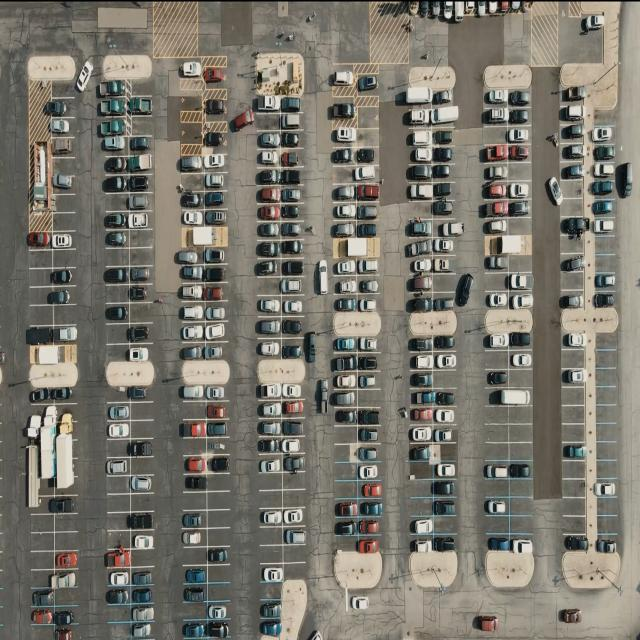space-empty: (486, 424, 532, 443), (488, 407, 533, 426), (504, 368, 534, 387), (483, 350, 511, 370), (28, 305, 54, 326), (506, 423, 534, 442), (106, 323, 131, 344), (561, 459, 587, 479), (256, 276, 282, 296), (560, 478, 586, 498), (129, 229, 155, 249), (255, 112, 282, 131), (560, 178, 584, 199), (106, 528, 130, 549), (105, 283, 130, 303), (560, 349, 585, 369), (560, 234, 585, 254), (410, 460, 435, 480), (559, 198, 584, 218), (509, 496, 534, 516), (29, 286, 54, 306), (130, 402, 155, 422), (484, 479, 510, 498), (408, 496, 434, 515), (356, 106, 379, 127), (130, 117, 154, 137), (207, 563, 231, 583), (54, 306, 78, 326), (260, 545, 284, 565), (562, 386, 586, 406), (593, 236, 617, 256), (335, 425, 359, 445), (207, 490, 231, 510), (208, 510, 232, 530), (281, 488, 305, 508), (562, 496, 586, 516), (482, 127, 507, 146), (105, 493, 130, 512), (510, 479, 535, 498), (178, 173, 203, 192), (130, 492, 155, 511), (105, 476, 130, 495), (561, 406, 586, 425), (106, 603, 131, 622), (182, 547, 207, 566), (182, 491, 207, 510), (180, 400, 205, 419), (129, 456, 154, 475), (484, 442, 509, 461), (433, 274, 458, 293), (207, 583, 232, 602), (485, 423, 510, 442), (129, 248, 155, 266), (485, 516, 511, 534), (509, 162, 532, 182), (357, 388, 380, 408), (53, 211, 76, 231), (31, 568, 54, 588), (595, 349, 618, 369), (128, 304, 151, 324), (334, 461, 357, 481), (105, 439, 129, 458), (260, 526, 284, 545), (560, 271, 584, 290), (104, 248, 128, 267), (282, 545, 306, 564), (508, 217, 532, 236), (509, 255, 533, 274), (484, 273, 508, 292), (409, 479, 433, 498), (131, 419, 155, 438), (355, 129, 379, 148), (510, 443, 534, 462), (55, 531, 79, 550), (55, 515, 79, 534), (52, 79, 76, 98), (130, 78, 154, 97), (208, 528, 232, 547), (54, 588, 79, 606), (28, 250, 53, 268), (104, 192, 129, 210), (332, 166, 357, 184), (407, 202, 432, 220), (562, 516, 587, 534), (180, 124, 202, 144), (596, 404, 618, 424), (596, 385, 618, 405), (596, 442, 618, 462), (436, 443, 458, 463), (53, 193, 76, 212), (54, 249, 77, 268), (31, 515, 54, 534), (261, 489, 284, 508), (595, 367, 618, 386), (283, 561, 306, 580), (595, 496, 618, 515), (182, 439, 206, 457), (434, 516, 458, 534), (30, 532, 54, 550), (562, 424, 586, 442), (28, 269, 52, 287), (131, 550, 155, 568), (52, 159, 76, 177), (260, 472, 284, 490), (106, 513, 130, 531), (31, 552, 55, 570), (510, 516, 534, 534), (179, 94, 203, 112), (595, 333, 619, 351), (206, 473, 230, 491), (182, 601, 206, 619), (596, 459, 618, 478), (596, 423, 618, 442), (596, 515, 618, 534), (435, 371, 457, 390), (281, 471, 304, 489), (595, 256, 618, 274), (334, 481, 357, 499), (262, 584, 284, 602), (336, 534, 358, 552), (334, 444, 356, 462), (105, 385, 128, 402), (592, 108, 615, 125), (109, 623, 132, 640), (106, 345, 128, 362), (31, 626, 54, 640)
space-occupied: (488, 386, 532, 407), (97, 116, 129, 136), (100, 134, 129, 156), (98, 97, 128, 118), (203, 94, 228, 118), (588, 178, 616, 199), (406, 106, 434, 127), (257, 294, 283, 316), (407, 181, 434, 202), (48, 97, 75, 118), (100, 78, 128, 98), (406, 238, 434, 258), (333, 98, 357, 121), (257, 316, 283, 337), (433, 105, 459, 126), (590, 215, 616, 236), (434, 217, 461, 237), (559, 103, 586, 123), (281, 296, 305, 318), (333, 125, 357, 147), (334, 65, 356, 89), (482, 105, 507, 126), (50, 137, 75, 158), (484, 458, 509, 479), (48, 118, 74, 138), (560, 331, 586, 351), (102, 156, 128, 176), (407, 217, 433, 237), (560, 216, 586, 236), (482, 180, 508, 200), (559, 124, 585, 144), (408, 292, 434, 312), (560, 142, 586, 162), (332, 388, 358, 408), (257, 338, 283, 358), (482, 216, 508, 236), (182, 620, 208, 640), (408, 423, 434, 443), (407, 128, 433, 148), (486, 369, 512, 389), (590, 199, 617, 218), (410, 387, 437, 406), (486, 533, 513, 552), (180, 58, 203, 80), (262, 562, 286, 583), (509, 271, 533, 292), (129, 322, 153, 343), (560, 288, 584, 309), (129, 474, 154, 494), (105, 230, 130, 250), (509, 349, 534, 369), (129, 266, 154, 286), (104, 266, 129, 286), (560, 368, 585, 388), (180, 418, 205, 438), (484, 495, 509, 515), (183, 527, 208, 547), (354, 164, 379, 184), (179, 303, 204, 323), (333, 371, 358, 391), (334, 275, 359, 295), (409, 274, 434, 294), (104, 210, 130, 229), (590, 126, 616, 145), (180, 511, 206, 530), (482, 163, 508, 182), (179, 383, 205, 402), (408, 407, 434, 426), (408, 257, 434, 276), (563, 533, 589, 552), (28, 325, 54, 344), (406, 89, 433, 107), (282, 316, 304, 338), (356, 73, 378, 95), (282, 338, 304, 360), (205, 320, 228, 341), (106, 303, 129, 324), (203, 66, 226, 87), (183, 564, 207, 584), (129, 155, 153, 175), (562, 442, 586, 462), (105, 419, 129, 439), (204, 152, 228, 172), (105, 400, 129, 420), (261, 508, 285, 528), (105, 456, 129, 476), (178, 153, 202, 173), (130, 439, 154, 459), (259, 454, 283, 474), (333, 202, 357, 222), (183, 474, 207, 494), (484, 288, 508, 308), (432, 291, 456, 311), (204, 129, 228, 149), (180, 321, 204, 341), (131, 512, 155, 532), (409, 443, 434, 462), (179, 190, 204, 209), (104, 174, 129, 193), (483, 144, 508, 163), (28, 231, 53, 250), (332, 146, 357, 165), (255, 259, 280, 278), (333, 183, 358, 202), (409, 516, 434, 535), (178, 282, 203, 301), (202, 246, 227, 265), (591, 162, 616, 181), (354, 443, 379, 462), (357, 481, 382, 500), (410, 369, 435, 388), (410, 352, 435, 371), (28, 383, 53, 402), (253, 95, 279, 113), (508, 290, 534, 308), (483, 333, 509, 351), (590, 144, 616, 162), (482, 201, 508, 219), (355, 462, 381, 480), (508, 533, 534, 551), (130, 95, 152, 116), (207, 546, 230, 566), (509, 180, 532, 200), (55, 568, 78, 588), (335, 497, 358, 517), (356, 424, 379, 444), (355, 202, 378, 222), (205, 302, 228, 322), (280, 148, 303, 168), (434, 350, 457, 370), (356, 275, 379, 295), (261, 620, 284, 640), (510, 460, 534, 479), (129, 210, 153, 229), (52, 174, 76, 193), (55, 324, 79, 343), (560, 255, 584, 274), (106, 550, 130, 569), (509, 332, 533, 351), (256, 220, 280, 239), (408, 164, 432, 183), (280, 453, 304, 472), (484, 89, 508, 108), (257, 240, 281, 259), (204, 282, 228, 301), (281, 220, 305, 239), (53, 495, 77, 514), (433, 256, 457, 275), (206, 455, 230, 474), (561, 162, 585, 181), (183, 584, 207, 603), (355, 182, 379, 201), (358, 498, 382, 517), (334, 408, 358, 427), (334, 293, 358, 312), (594, 480, 618, 499), (54, 605, 78, 624), (434, 479, 458, 498), (334, 353, 358, 372), (258, 184, 282, 203), (259, 418, 283, 437), (128, 344, 152, 363), (593, 289, 617, 308), (259, 399, 283, 418), (204, 265, 228, 284), (258, 438, 283, 456), (561, 87, 587, 104), (54, 230, 76, 250), (282, 508, 304, 528), (434, 407, 456, 427), (207, 600, 229, 620), (132, 566, 154, 586), (205, 171, 228, 190), (509, 143, 532, 162), (56, 551, 79, 570), (509, 106, 532, 125), (280, 96, 303, 115), (281, 259, 304, 278), (281, 276, 304, 295), (182, 456, 205, 475), (256, 148, 279, 167), (282, 526, 305, 545), (281, 240, 304, 259), (206, 402, 229, 421), (281, 436, 304, 455), (508, 126, 532, 144), (484, 254, 508, 272), (335, 336, 359, 354), (130, 174, 154, 192), (258, 131, 282, 149), (357, 518, 381, 536), (107, 587, 131, 605), (433, 237, 457, 255), (594, 273, 618, 291), (178, 266, 202, 284), (180, 209, 204, 227), (107, 568, 131, 586), (433, 534, 457, 552), (356, 535, 380, 553), (202, 342, 226, 360), (354, 258, 378, 276), (410, 534, 434, 552), (206, 438, 230, 456), (130, 136, 152, 155), (54, 268, 76, 287), (432, 181, 454, 200), (206, 418, 228, 437), (32, 608, 54, 627), (54, 285, 76, 304), (434, 128, 456, 147), (356, 352, 378, 371), (595, 534, 617, 553), (262, 600, 284, 619), (208, 621, 230, 640), (54, 383, 76, 402), (132, 531, 155, 549), (130, 192, 153, 210), (509, 200, 532, 218), (355, 146, 378, 164), (204, 190, 227, 208), (509, 90, 532, 108), (356, 408, 379, 426), (334, 219, 357, 237), (129, 284, 152, 302), (434, 497, 457, 515), (177, 247, 200, 265), (204, 210, 227, 228), (281, 399, 304, 417), (280, 203, 303, 221), (132, 603, 155, 621), (281, 418, 304, 436), (434, 461, 458, 478), (409, 146, 433, 163), (258, 204, 282, 221), (357, 372, 378, 391), (433, 164, 455, 182), (434, 202, 456, 220), (433, 145, 455, 163), (132, 586, 154, 604), (131, 622, 153, 640), (355, 221, 377, 239), (205, 384, 227, 402), (436, 388, 458, 406), (279, 170, 302, 187), (180, 343, 203, 360), (258, 384, 282, 400), (433, 336, 457, 352), (409, 337, 433, 353), (32, 590, 53, 608), (280, 131, 301, 149), (336, 518, 358, 535), (258, 169, 280, 186), (281, 383, 303, 400), (434, 426, 456, 443), (336, 260, 358, 277), (280, 185, 302, 202), (431, 91, 454, 107), (182, 142, 205, 158), (357, 296, 378, 313), (280, 114, 302, 130), (130, 386, 152, 402), (358, 337, 378, 354), (53, 626, 74, 640)
